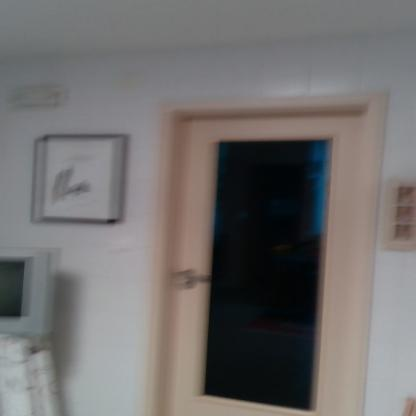door: (166, 114, 368, 415)
lever: (168, 273, 214, 281)
